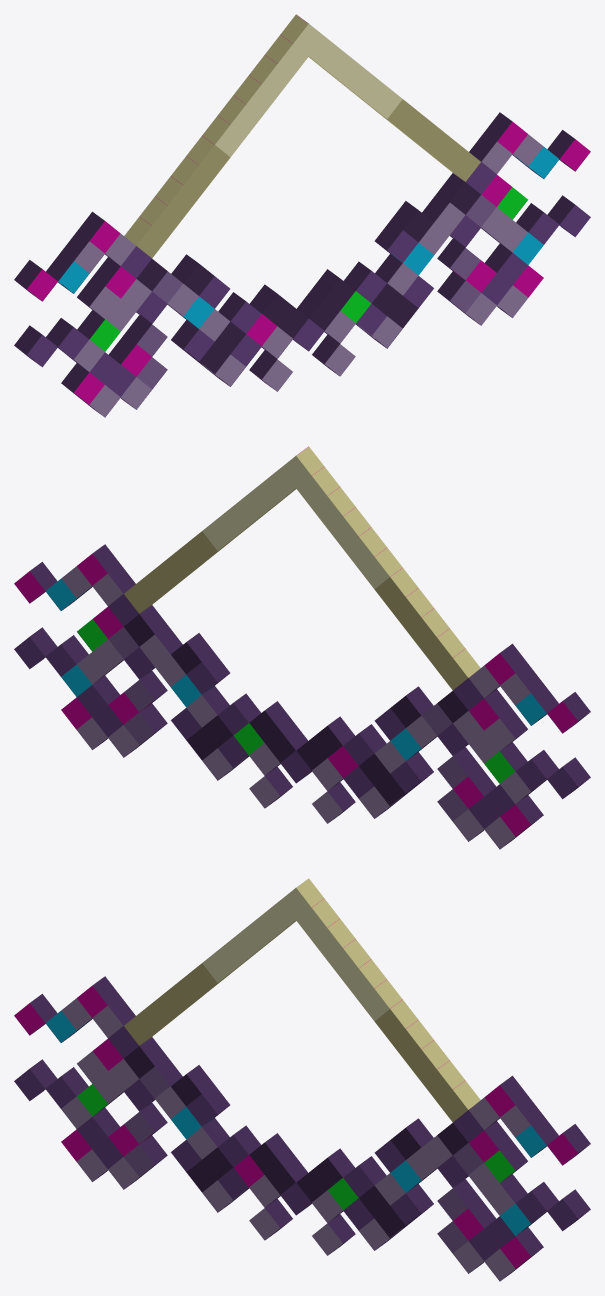
Rendered from SM_TrickBow_Year1_4.glb.
3 views of the same model, one above another, from view 1: azimuth 30°, elevation 25°; view 2: azimuth 150°, elevation 25°; view 3: azimuth 330°, elevation 25° (orthographic).
Visible parts, largest first — view 1: SM_TrickBow_Year1_4.001; view 2: SM_TrickBow_Year1_4.001; view 3: SM_TrickBow_Year1_4.001.
Boxes of the visible parts, x1,y1,x2,y2 form: SM_TrickBow_Year1_4.001: (14, 14, 590, 417); SM_TrickBow_Year1_4.001: (14, 446, 590, 849); SM_TrickBow_Year1_4.001: (14, 878, 590, 1281).
Bounding box in the file's own units: 159 × 97.23 × 6.25.
1 material, 1 textured.
